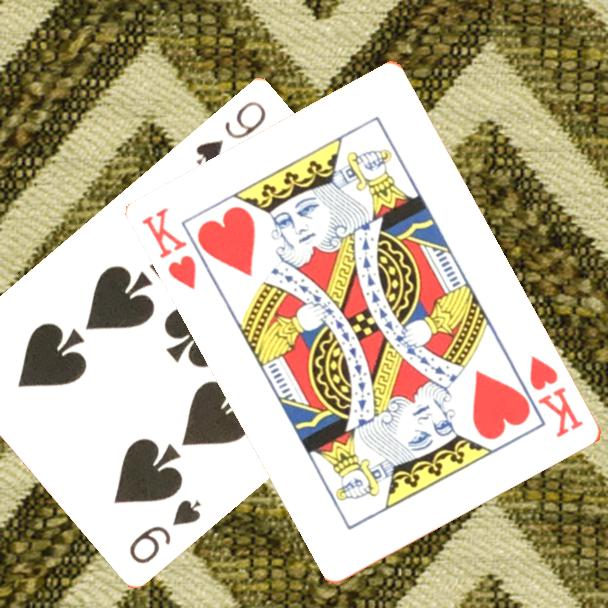h13: (526, 352, 587, 441), (139, 204, 200, 293)
s09: (125, 495, 205, 567), (192, 97, 270, 168)
